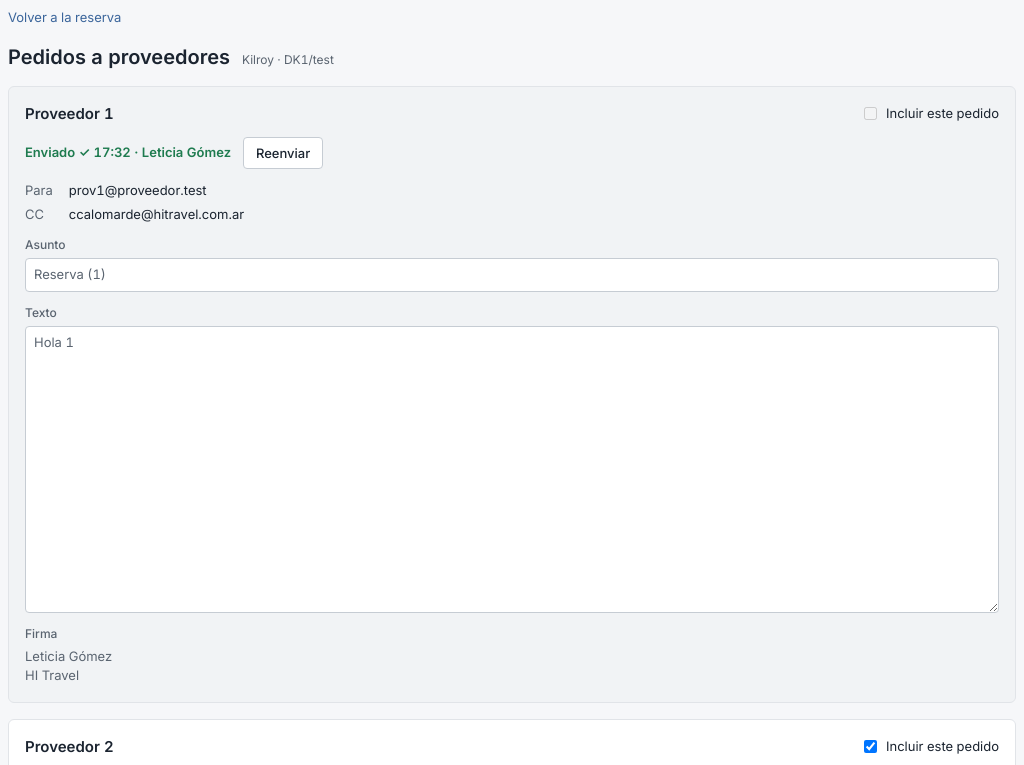
Scenario: enviar desde el diálogo (filas 6, 7 y 10) › 'Reenviar' uno ya enviado: confirmación aparte, con el aviso, y va con reenviar
The width and height of the screenshot is (1024, 765).
Click the button "Reenviar" at (283, 153), box [243, 137, 323, 169]
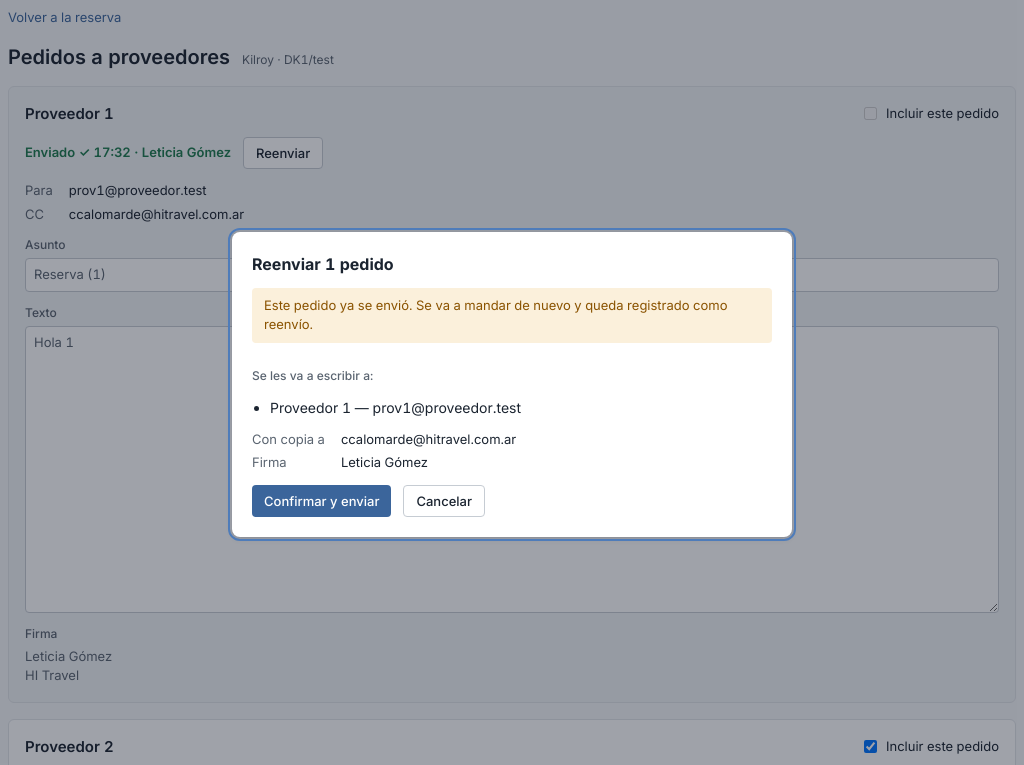
Check: the text "Este pedido ya se envió. Se va a mandar de nuevo y queda registrado como reenvío." is shown, box [264, 296, 728, 332]
Click the button "Confirmar y enviar" at (322, 500), box [252, 484, 391, 516]
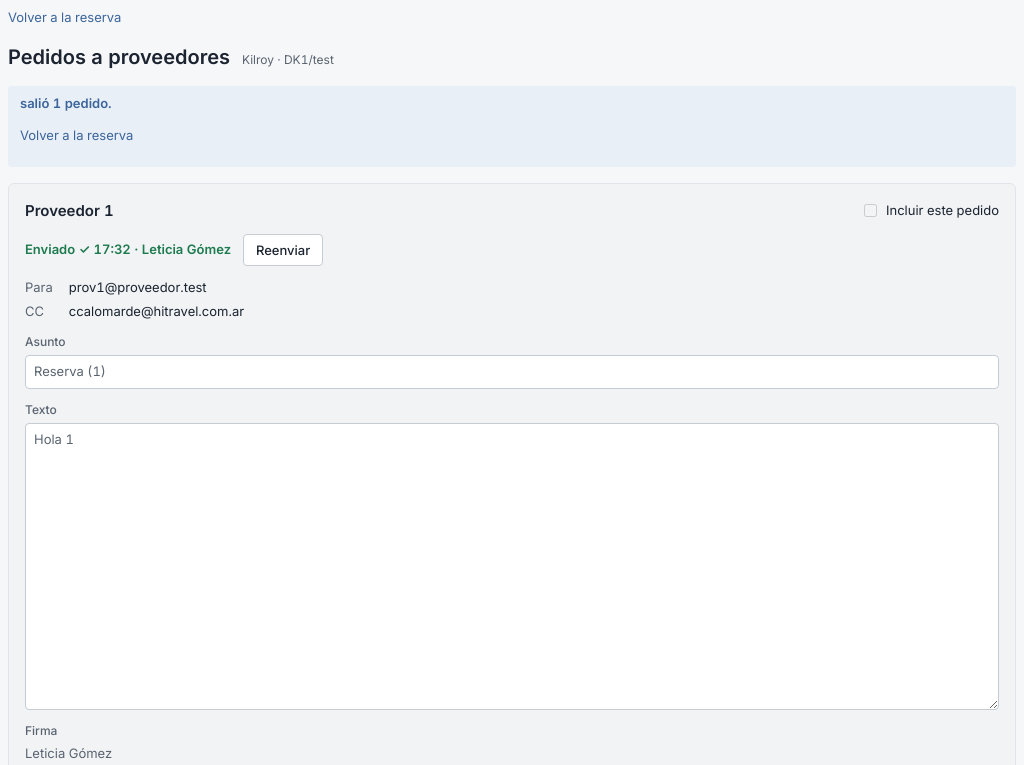
Check: the dialog is gone
